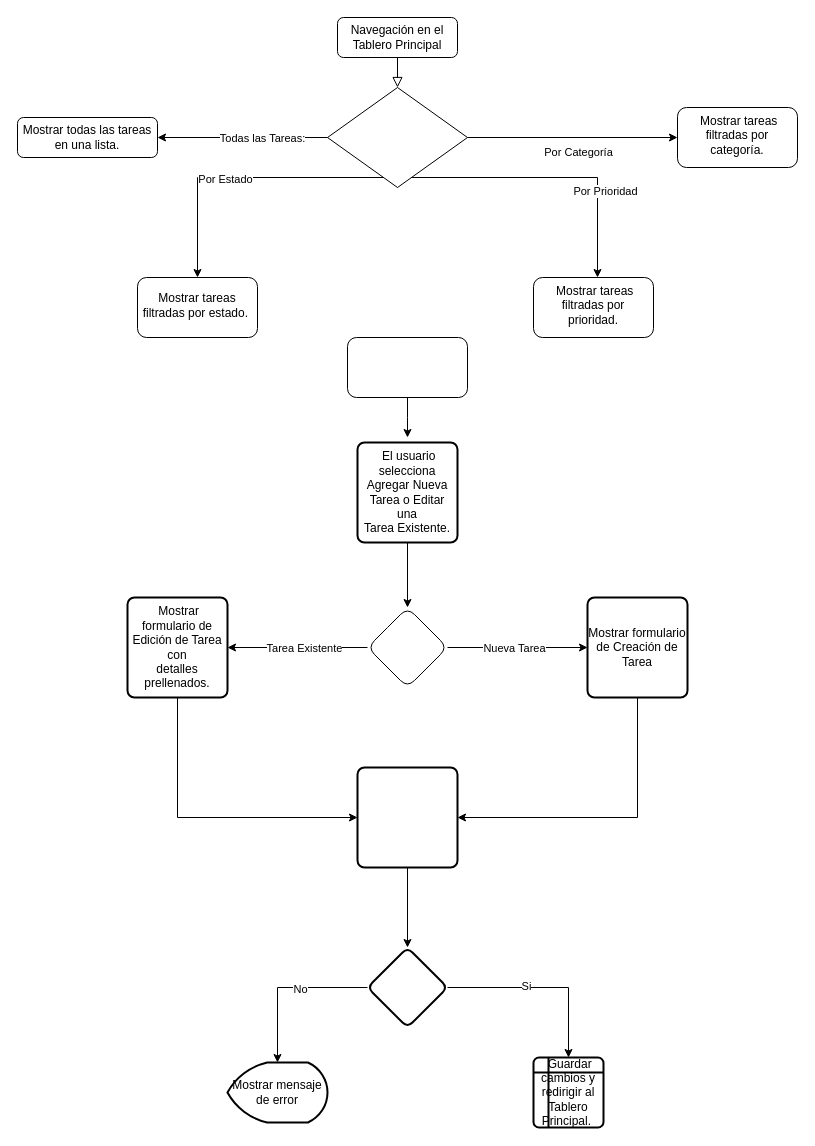
The diagram is 815 pixels wide and 1146 high, and some of its shapes have lost their labels. Each missing label, with the box of its shape:
Creación y Edición de Tareas: (346, 336, 468, 398)
El usuario introduce la información y guarda.: (356, 766, 458, 868)
¿Datos completos y válidos?: (366, 946, 448, 1028)
¿Qué opción selecciona el usuario?: (326, 86, 468, 188)
¿Tarea existente o nueva?: (366, 606, 448, 688)
